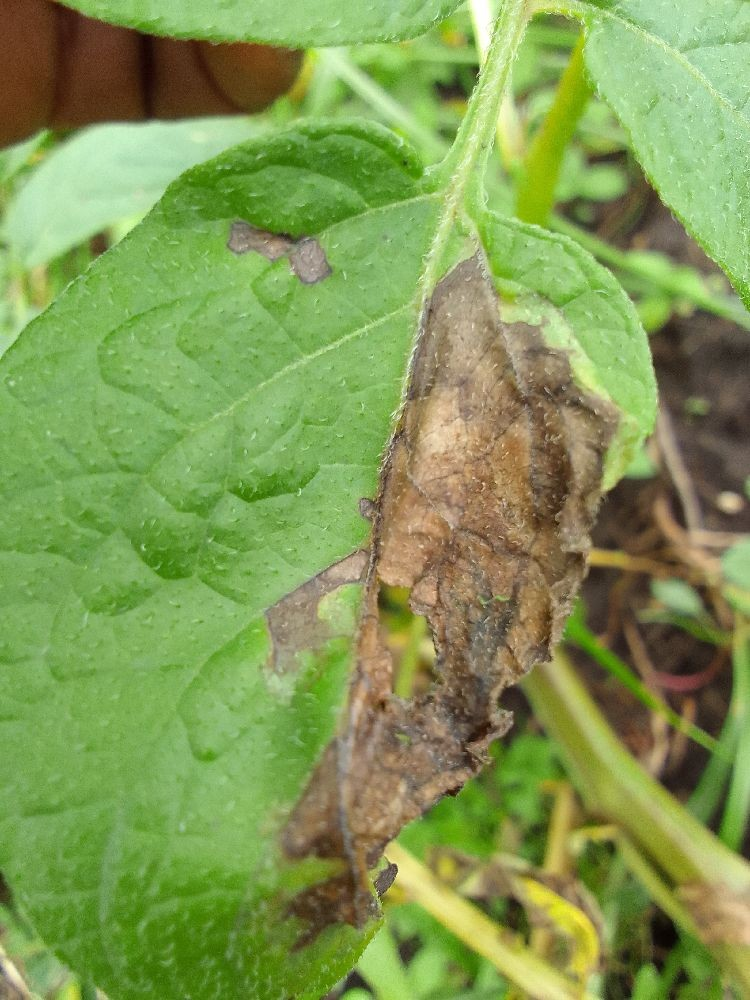late_blight: (250, 244, 749, 999), (0, 0, 340, 187), (536, 129, 735, 295)
